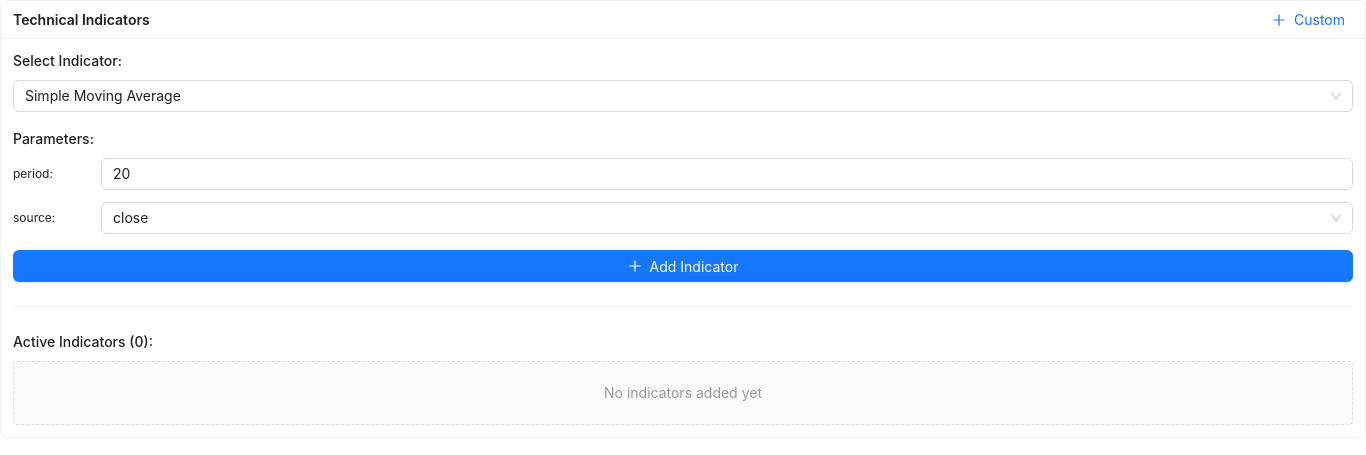
Test case: IndicatorBuilder › Managing Active Indicators › should remove indicator when delete button clicked
The width and height of the screenshot is (1366, 455).
// Add an indicator first
Click the button "Add Indicator": (683, 266) [13,250,1353,282]
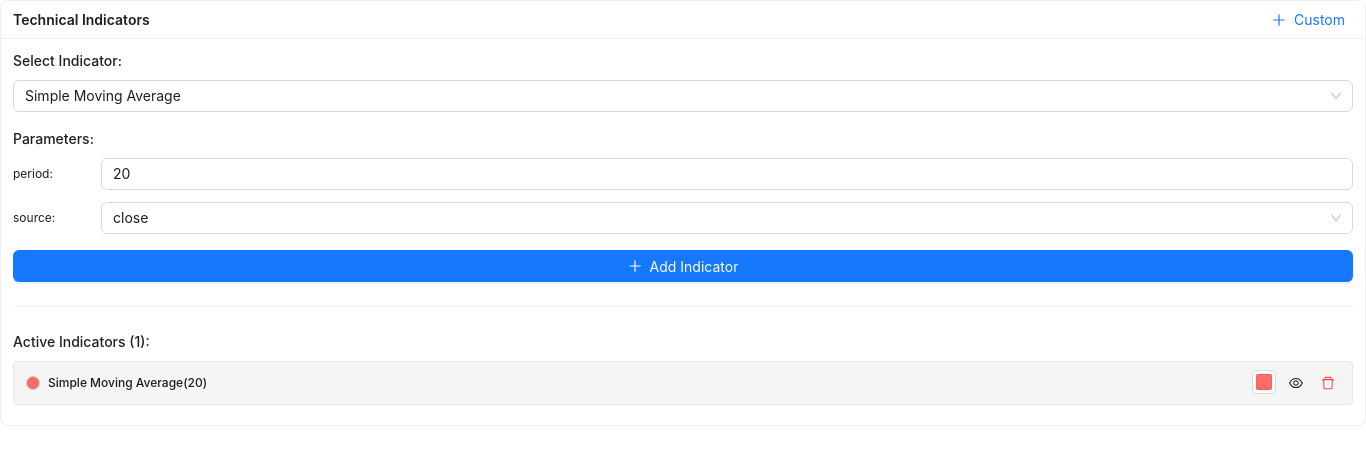
// Remove it
Click the 2nd button named "delete": (1328, 383) [1316,371,1340,395]
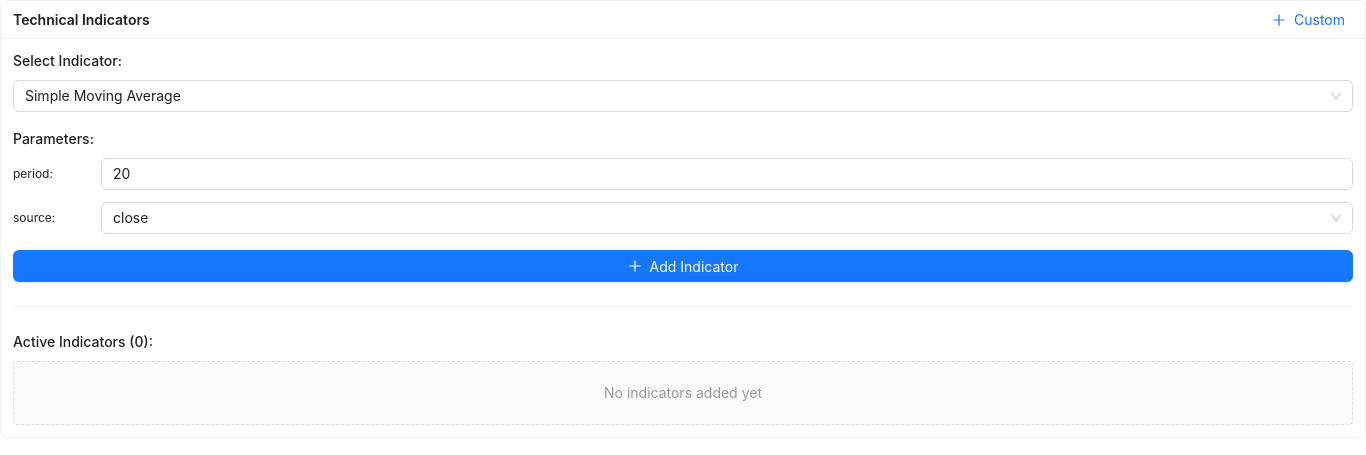
expect the text "Active Indicators (0):" is shown: met, box [13,333,153,350]
expect the text "No indicators added yet" is shown: met, box [13,361,1353,425]
